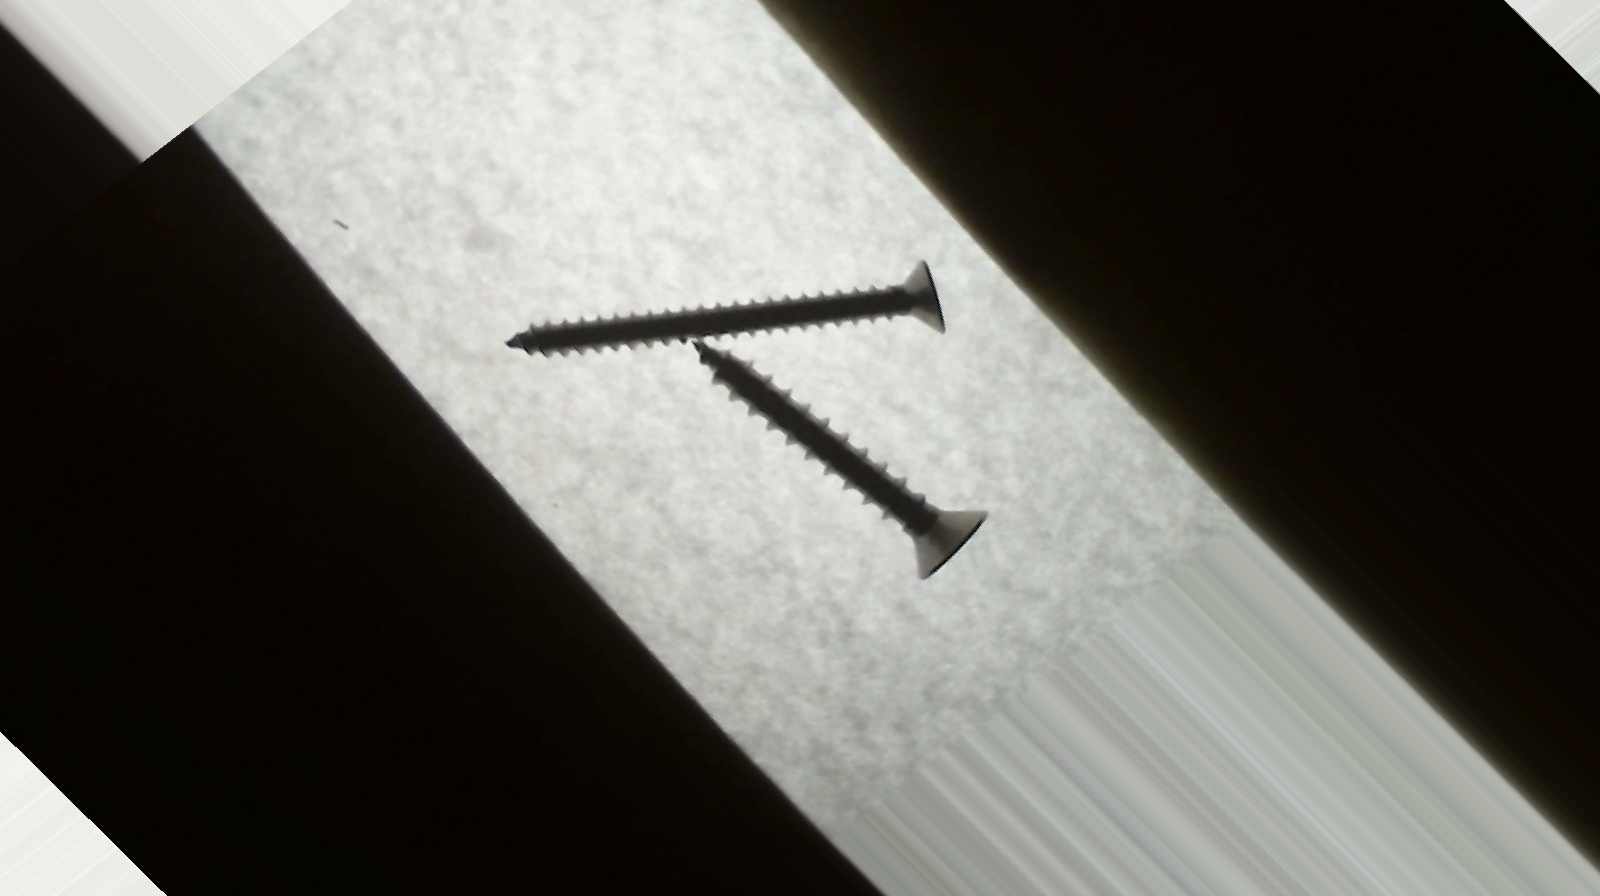S001: (654, 278, 1007, 602)
S002: (495, 117, 982, 535)
